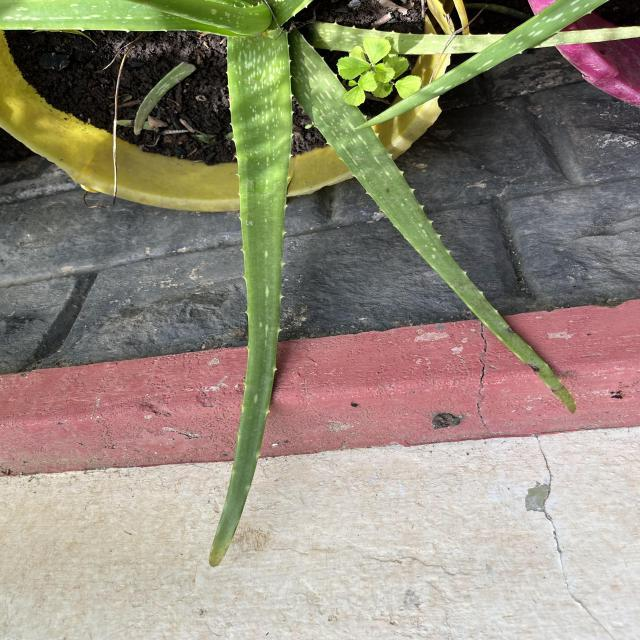Aloe vera: (192, 29, 296, 570)
